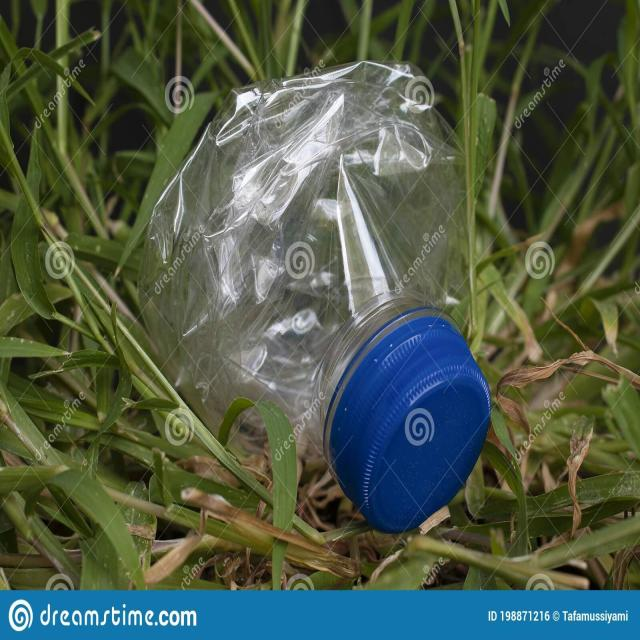bottle: (130, 39, 504, 548)
